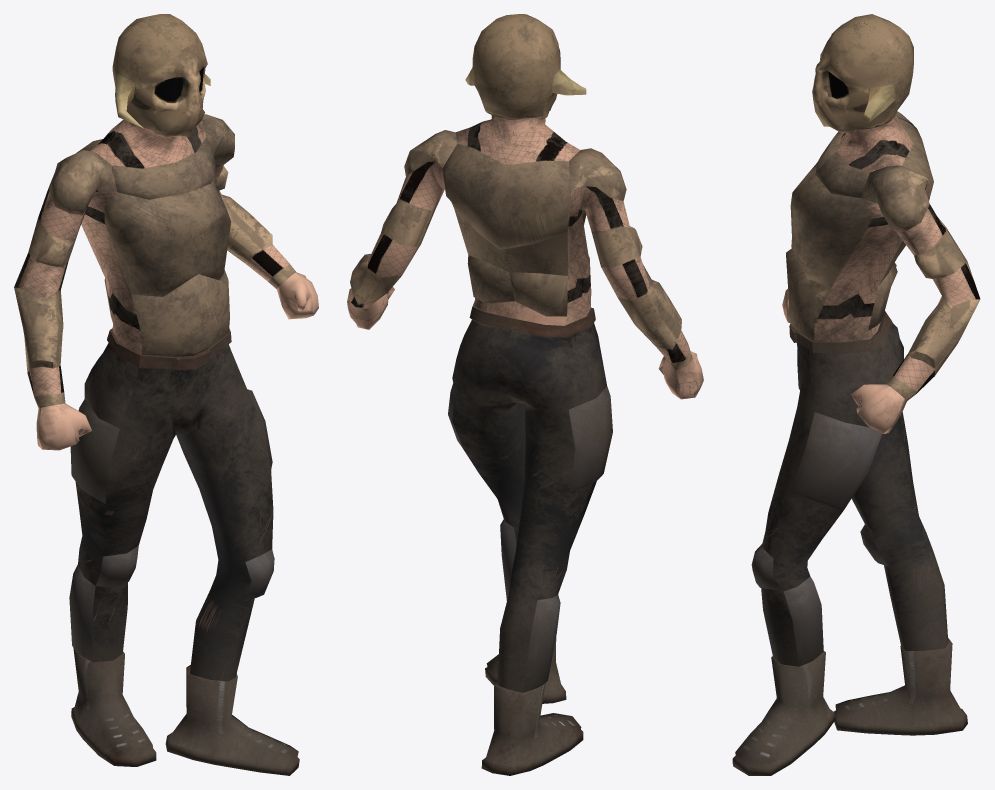
The model's file is Anim_ataque_f2_npc1.0012.obj.
3 renders of one model, left to right at view 1: azimuth 30°, elevation 25°; view 2: azimuth 150°, elevation 25°; view 3: azimuth 270°, elevation 25°, orthographic.
Parts seen in each view (by area): view 1: NPC2; view 2: NPC2; view 3: NPC2.
Part boxes in pixels (x1,y1,x2,y2): NPC2: [14, 14, 318, 775]; NPC2: [347, 14, 703, 775]; NPC2: [732, 14, 980, 775].
Size of the model in its own units: 4.34 by 9.56 by 2.98.
